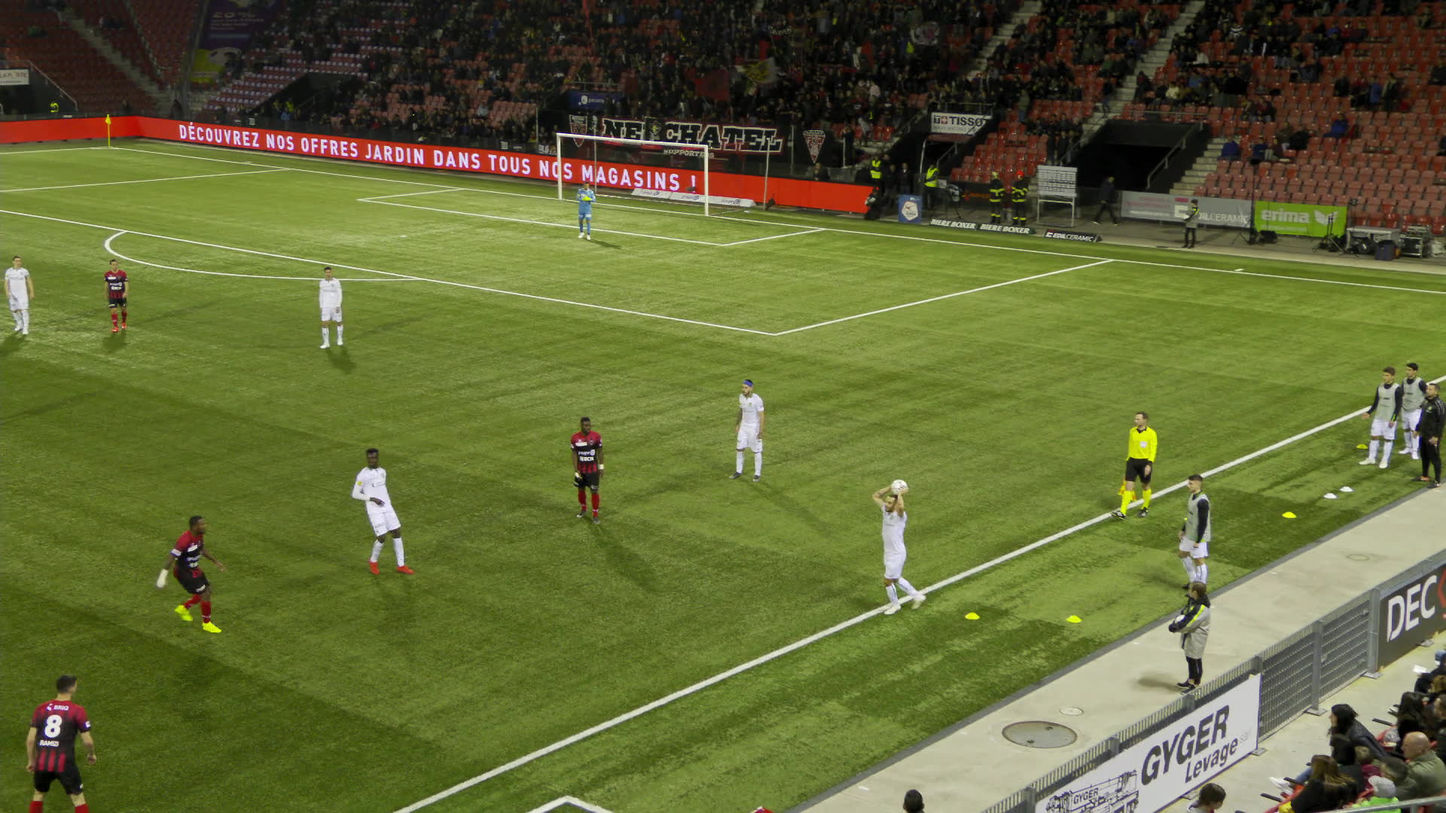ball: (891, 475, 908, 494)
player: (28, 676, 100, 812), (154, 510, 218, 635), (349, 449, 413, 573), (870, 479, 928, 615), (567, 416, 602, 524), (728, 379, 763, 482), (3, 255, 32, 333), (102, 259, 129, 332), (319, 266, 343, 348), (576, 181, 595, 240)
referee: (1114, 410, 1156, 522)
